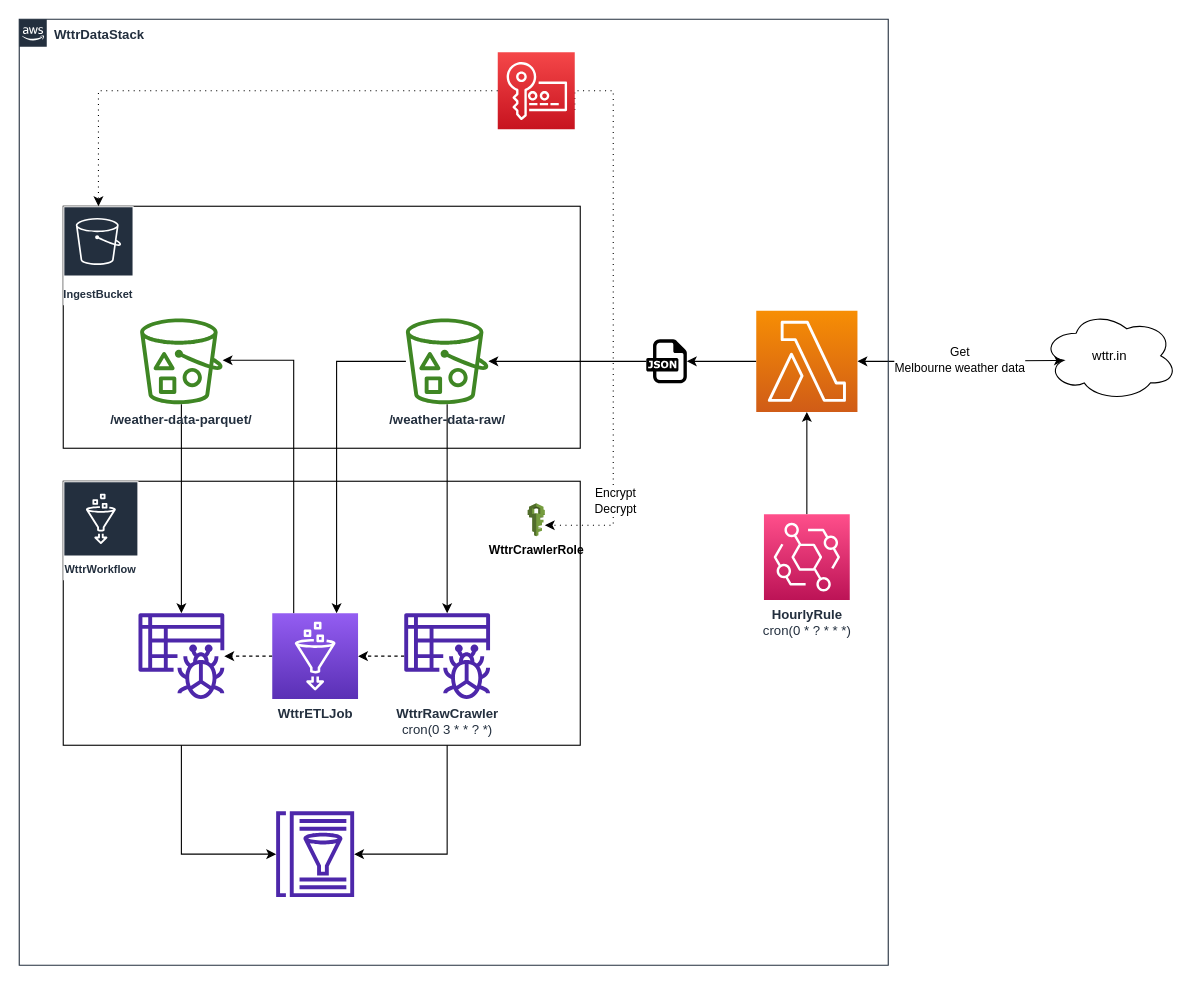
The diagram is 1197 pixels wide and 985 high, and some of its shapes have lost their labels. The centre of each missing label's shape, as x and y in pixels:
GetDataLambda: the point at 806,361
MyKMSKey: the point at 536,90
raw data: the point at 666,360
WttrDatabase: the point at 314,854
WttrParquetCrawler: the point at 181,655
